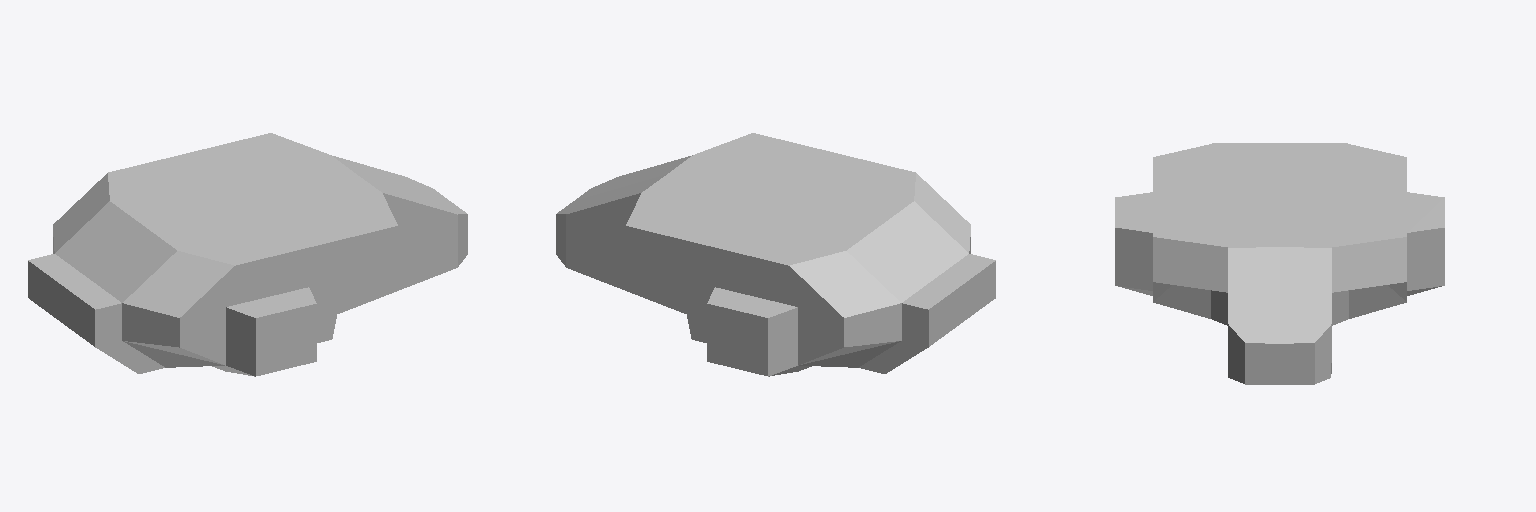
Rendered from turmunten.obj.
3 views of the same model, side by side, from view 1: azimuth 30°, elevation 25°; view 2: azimuth 150°, elevation 25°; view 3: azimuth 270°, elevation 25° (orthographic).
Parts seen in each view (by area): view 1: cube1_sep10; view 2: cube1_sep10; view 3: cube1_sep10.
Part boxes in pixels (x1,y1,x2,y2): cube1_sep10: (28,133,467,376); cube1_sep10: (556,133,995,376); cube1_sep10: (1115,143,1444,384).
Size of the model in its own units: 0.3881 by 0.1097 by 0.2845.